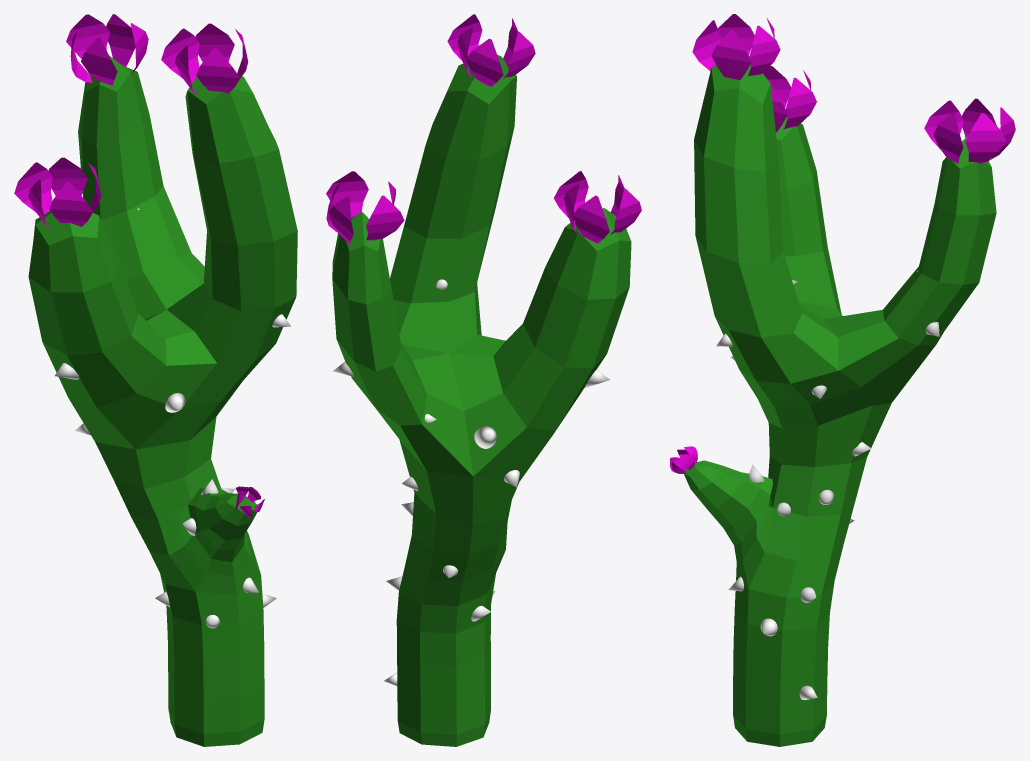
Rendered from кактус.fbx.
3 views of the same model, side by side, from view 1: azimuth 30°, elevation 25°; view 2: azimuth 150°, elevation 25°; view 3: azimuth 270°, elevation 25° (orthographic). The views are drawn at different scales.
Parts seen in each view (by area): view 1: Cube.001, Plane.008, Plane.010, Plane.009, Plane.007; view 2: Cube.001, Plane.010, Plane.009, Plane.008; view 3: Cube.001, Plane.008, Plane.010, Plane.009.
Boxes of the visible parts, x1,y1,x2,y2 form: Cube.001: (28, 55, 297, 746); Plane.008: (66, 14, 148, 85); Plane.010: (161, 23, 248, 95); Plane.009: (14, 157, 101, 228); Plane.007: (235, 486, 264, 518); Cube.001: (332, 55, 631, 746); Plane.010: (447, 14, 535, 86); Plane.009: (553, 171, 641, 243); Plane.008: (326, 171, 404, 244); Cube.001: (684, 55, 996, 746); Plane.008: (924, 98, 1015, 163); Plane.010: (692, 14, 780, 80); Plane.009: (763, 66, 816, 132).
Size of the model in its own units: 468 by 1274 by 573.
